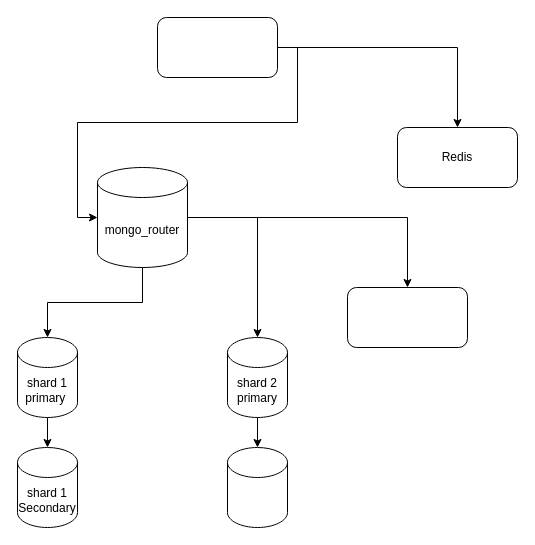
The diagram is 535 pixels wide and 545 high, and some of its shapes have lost their labels. Here are the shapes that lost their labels. From the top down, the centre of each, then its label:
At (217,47): "pymongo-api".
At (407,317): "config svr".
At (257,487): "shard 2 Secondary".
